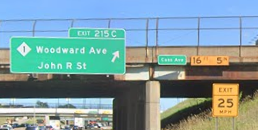1: (191, 56, 196, 64)
5: (215, 56, 222, 65)
6: (194, 55, 202, 65)
overheadsign: (189, 54, 229, 66)
